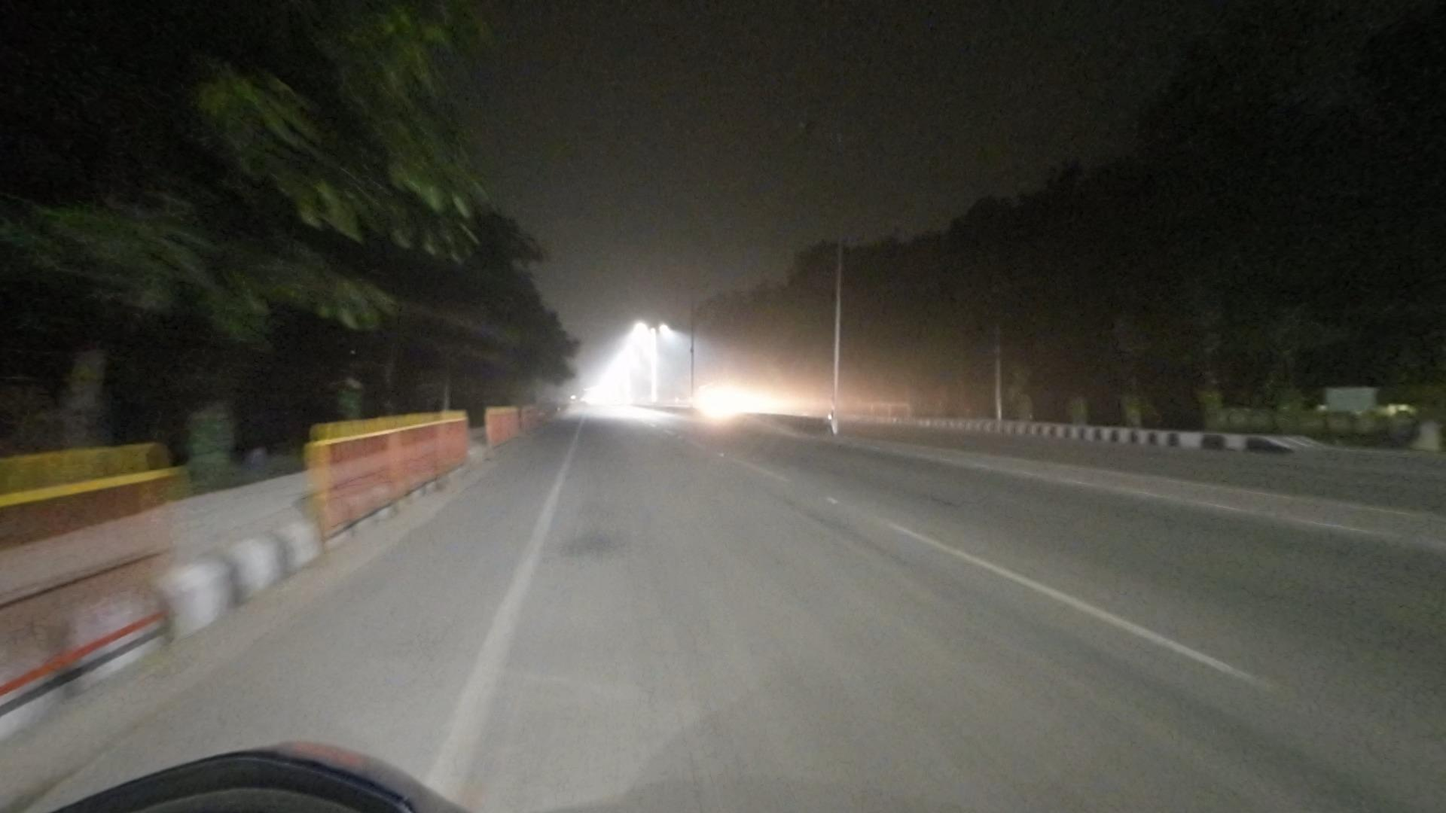streetlight: (796, 118, 832, 134)
